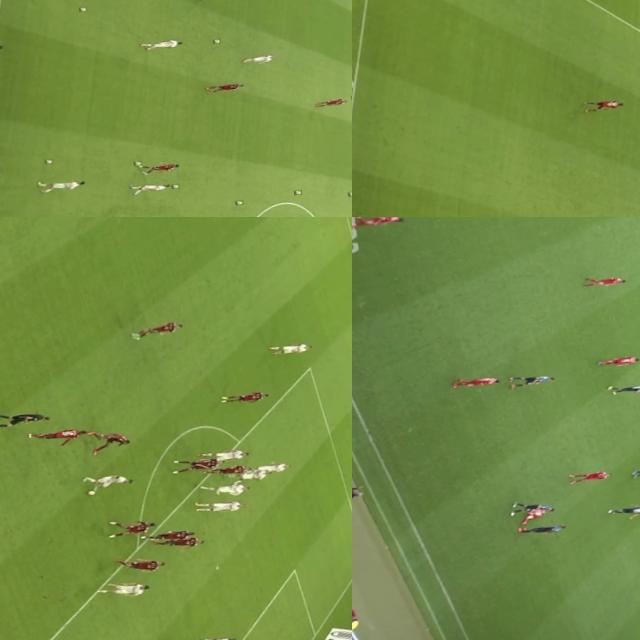ball: (168, 180, 182, 190), (84, 489, 98, 496), (292, 188, 304, 195), (131, 160, 144, 166), (76, 6, 88, 12), (211, 38, 222, 44), (44, 158, 54, 164), (344, 188, 352, 195), (233, 200, 242, 206), (522, 514, 532, 519)
player: (110, 551, 166, 575), (105, 514, 159, 538), (448, 373, 505, 393), (91, 427, 134, 452), (170, 456, 222, 476), (198, 478, 250, 498), (576, 271, 628, 291), (32, 426, 89, 444), (83, 472, 134, 492), (127, 321, 182, 338), (193, 497, 244, 515), (508, 497, 556, 516), (591, 352, 640, 370), (236, 460, 289, 476), (200, 446, 252, 462), (144, 528, 194, 544), (352, 217, 404, 232), (158, 533, 206, 549), (205, 462, 252, 478), (517, 521, 564, 537), (100, 582, 145, 598), (32, 177, 84, 190), (134, 38, 182, 52), (270, 340, 314, 355), (567, 470, 608, 486), (604, 381, 640, 398), (218, 392, 268, 404), (518, 508, 550, 526), (603, 504, 640, 519), (124, 181, 170, 193), (138, 160, 180, 173), (231, 468, 268, 482), (235, 54, 276, 66), (586, 98, 622, 110), (312, 97, 349, 108), (210, 80, 241, 92), (185, 633, 238, 640), (631, 467, 640, 481)
